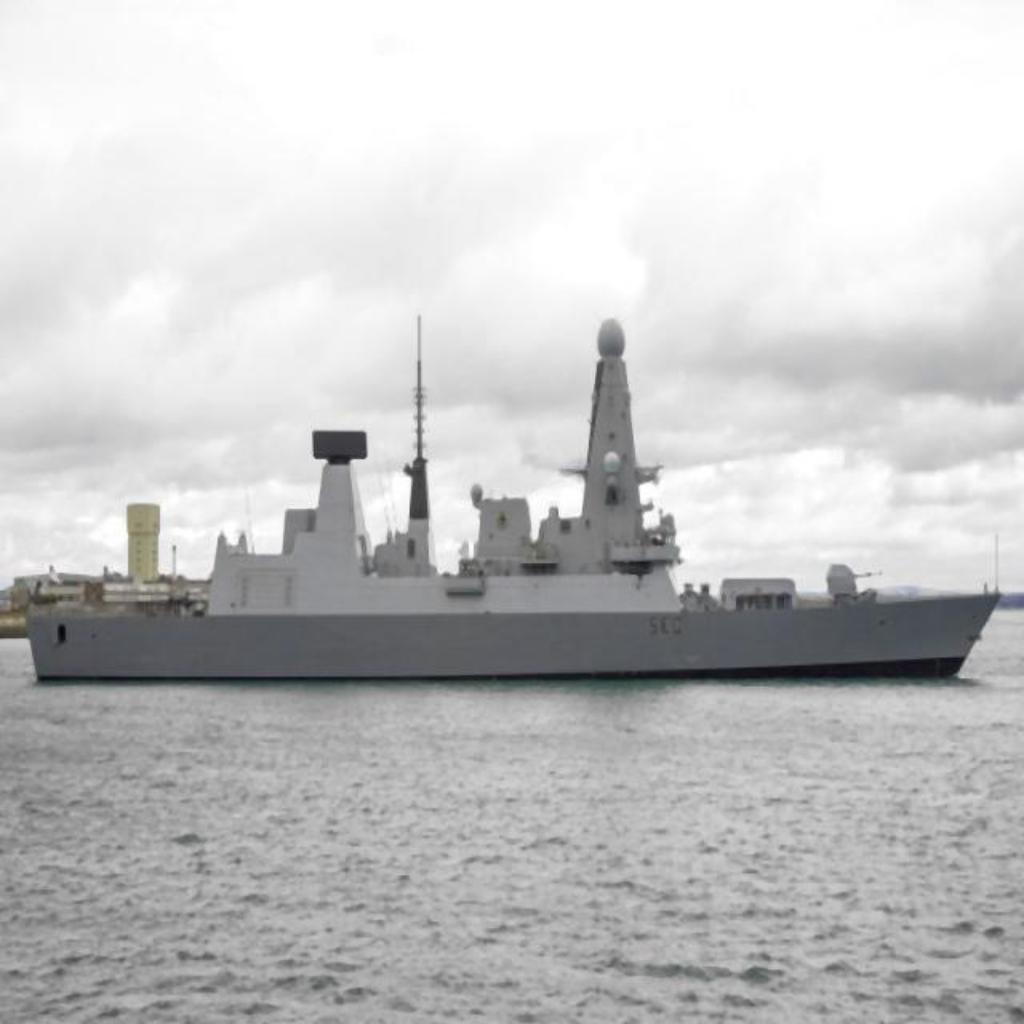Warship: (20, 301, 1008, 693)
